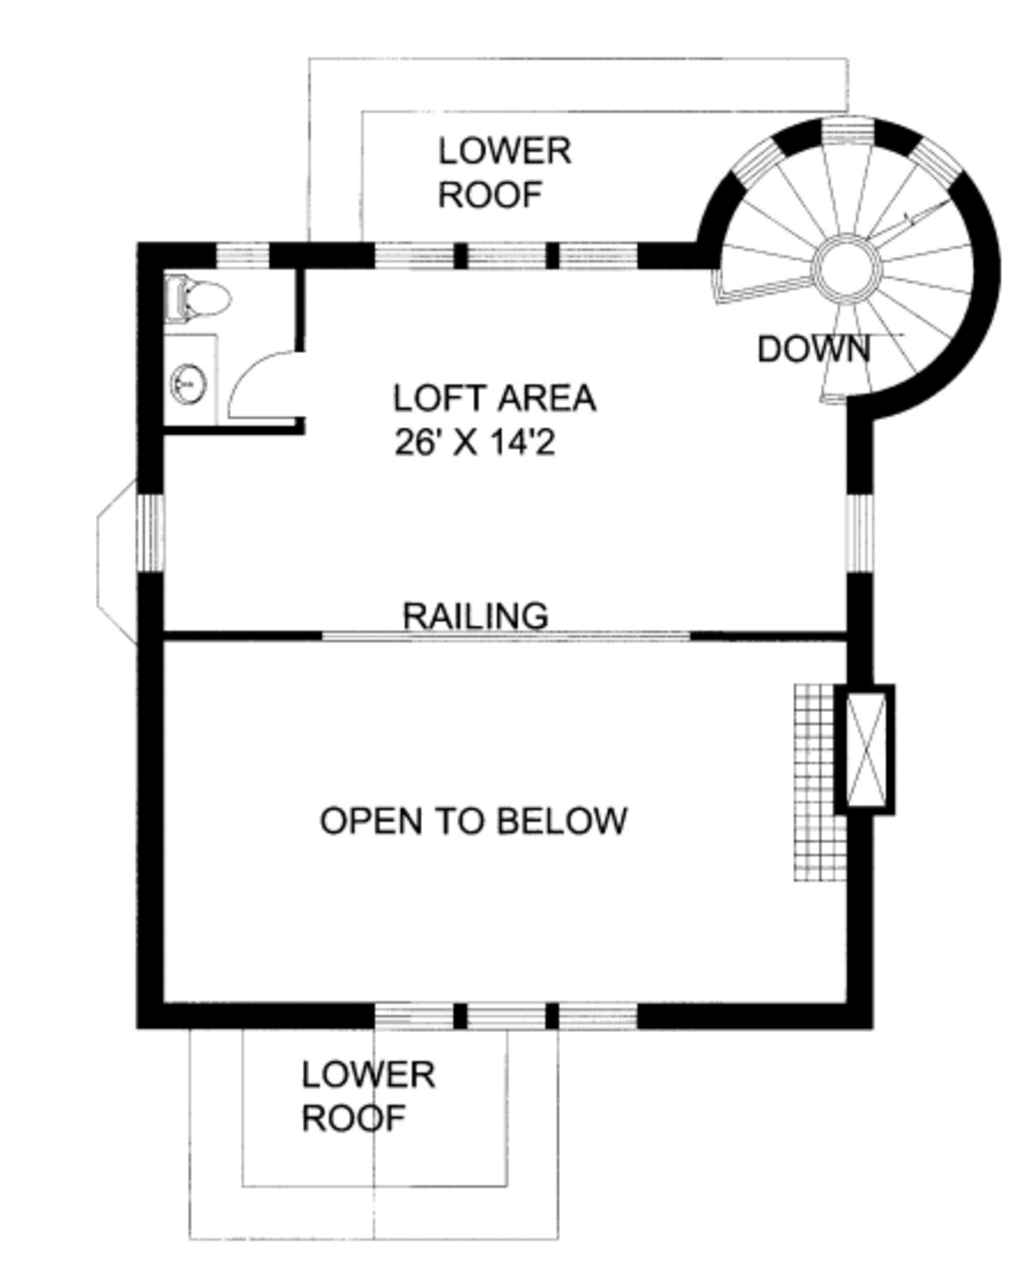door: (214, 324, 336, 432)
large_sink: (152, 269, 238, 326)
small_sink: (161, 321, 218, 422)
stairs: (704, 150, 967, 411)
window: (353, 991, 657, 1040), (830, 491, 901, 577), (122, 487, 179, 579)
